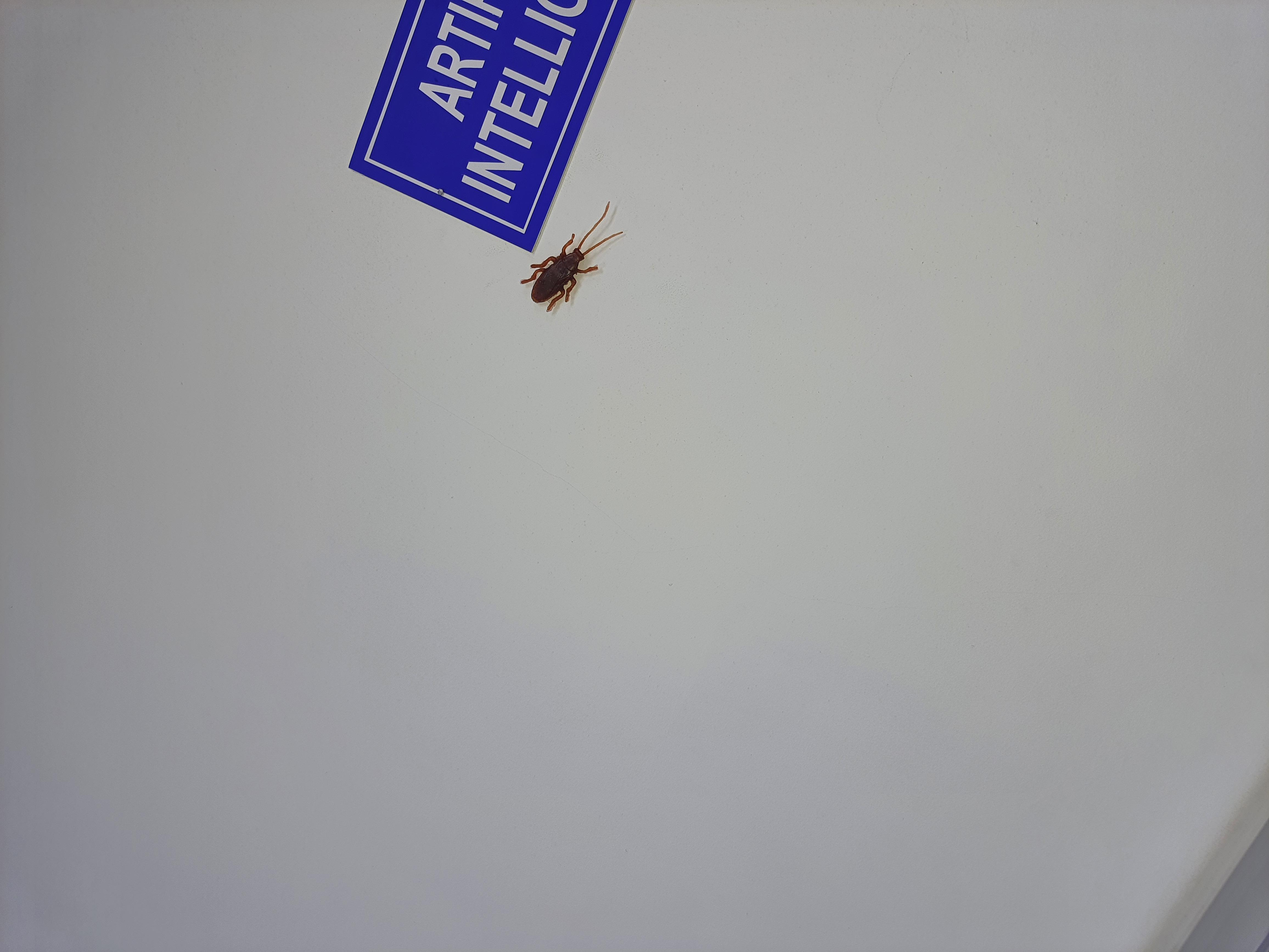cockroach: (839, 373, 1031, 471)
